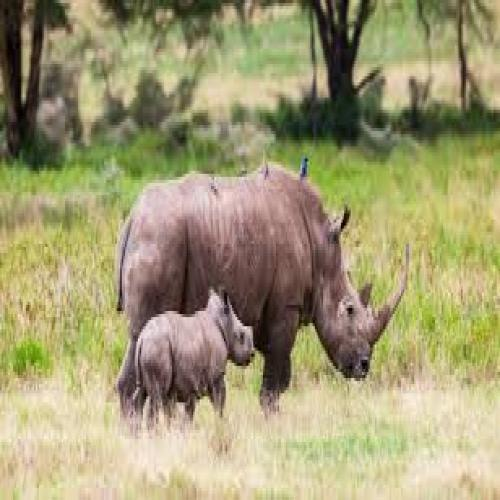rhino-endangered: (118, 167, 408, 382), (131, 296, 257, 412)
